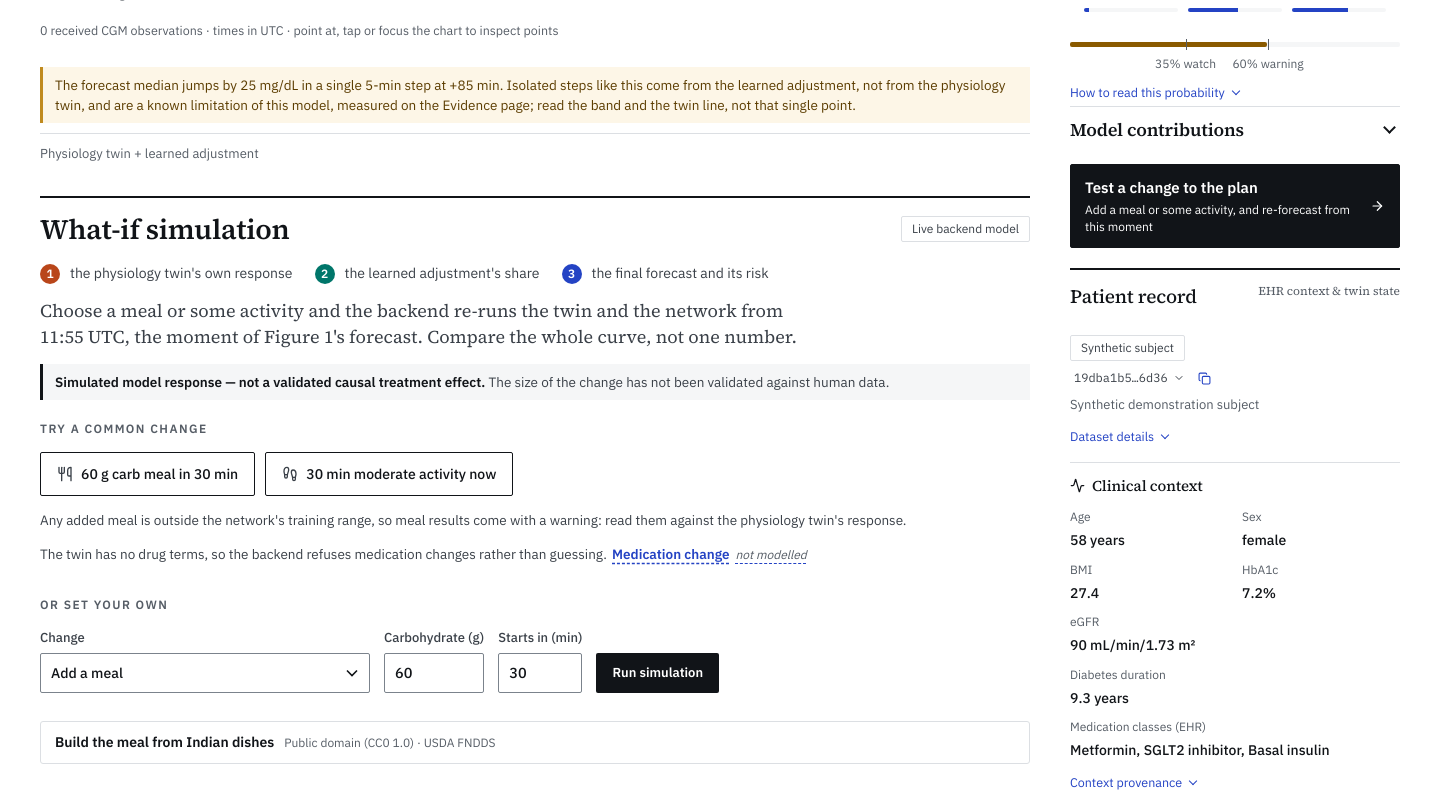
Test: Dataset provenance presentation and jargon elimination › updates provenance correctly upon patient switch and clears when forecast is absent
(page scrolled)
Expected: the text "Synthetic demonstration subject" is shown, top-left (1070, 396), bottom-right (1259, 413)
Expected: the element with test id "dataset-details" is shown, top-left (1070, 428), bottom-right (1154, 444)
Click the heading "Dataset details".
click(1119, 437)  # box top-left (1070, 423), bottom-right (1168, 450)
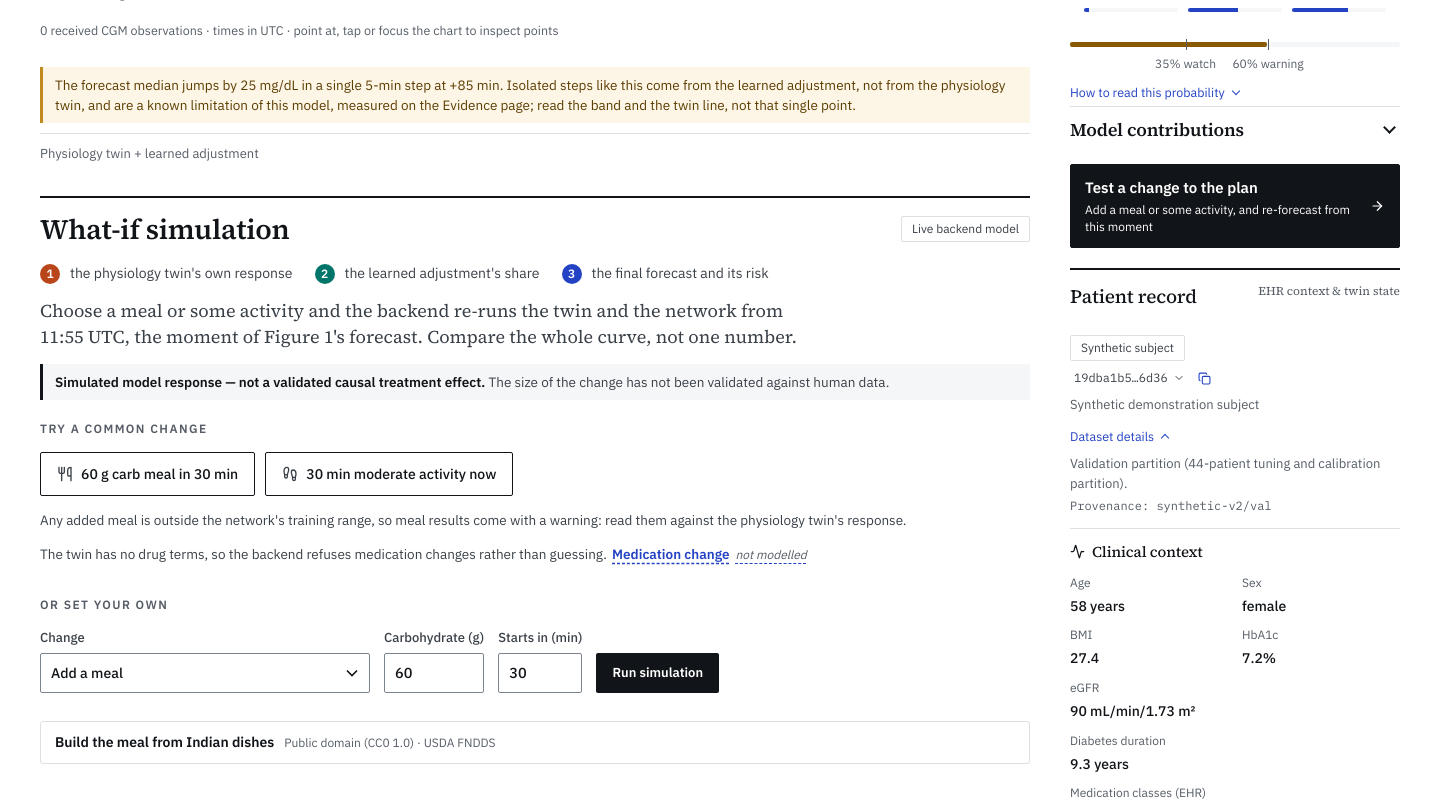
Expected: the element with test id "dataset-details" shows "Validation partition (44-patient tuning and calibration partition).", top-left (1070, 423), bottom-right (1400, 516)
Expected: the element with test id "dataset-details" shows "Provenance: synthetic-v2/val", top-left (1070, 423), bottom-right (1400, 516)
